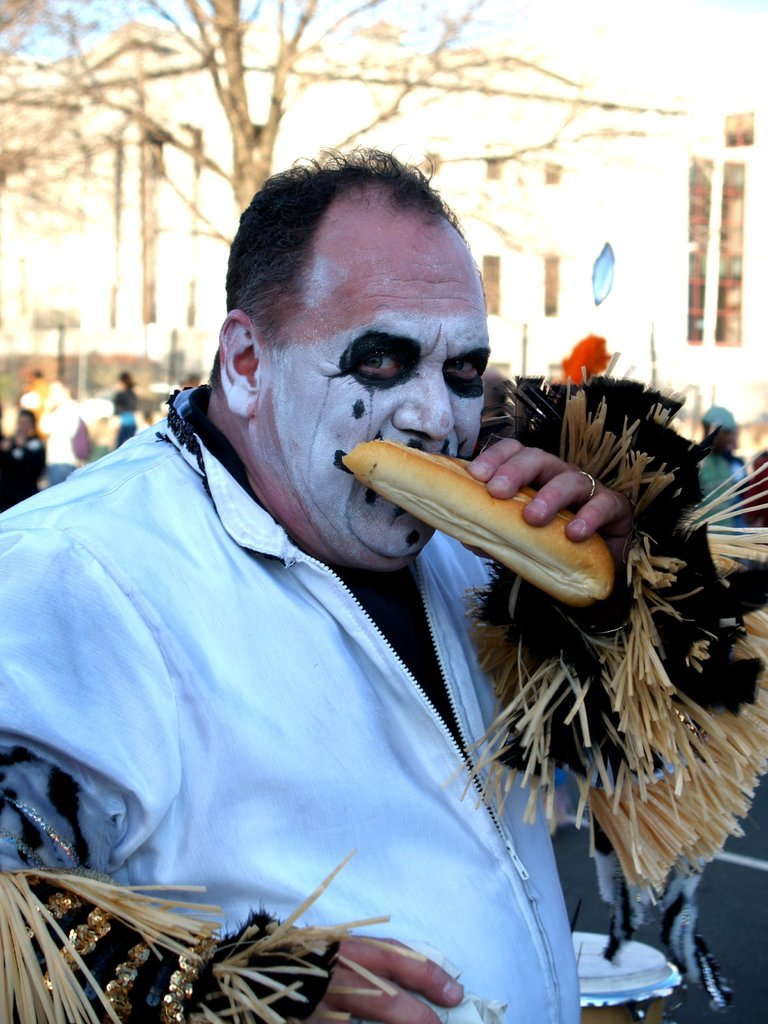hot_dog: (331, 431, 616, 616)
